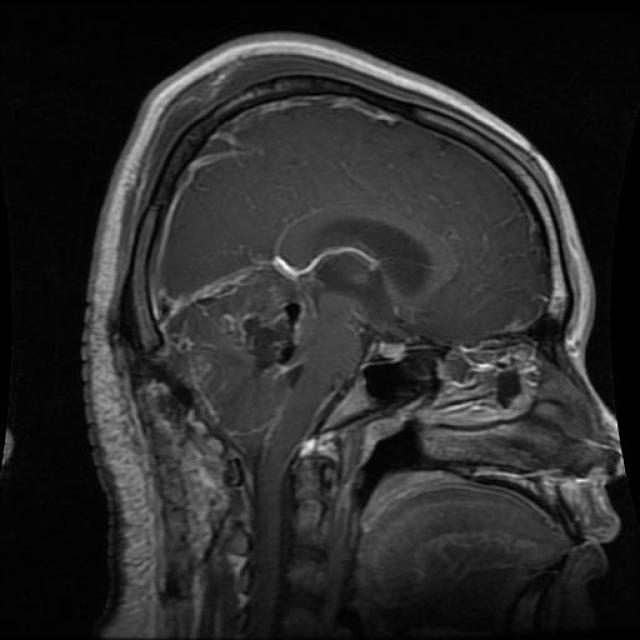glioma: (275, 202, 459, 310)
